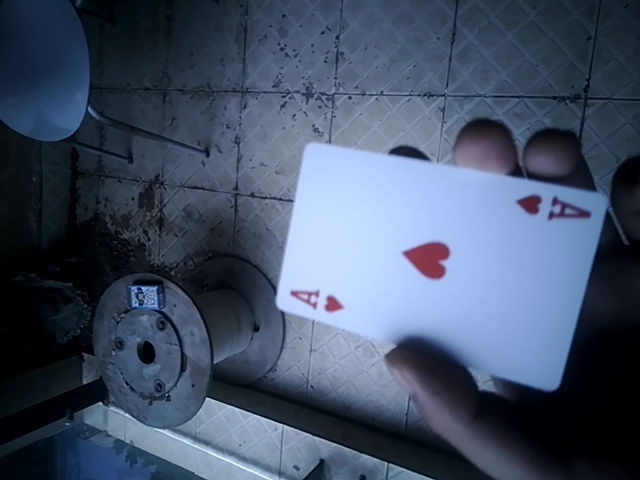hx a: (272, 144, 597, 391)
